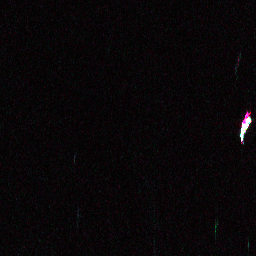ship: (238, 114, 253, 140)
